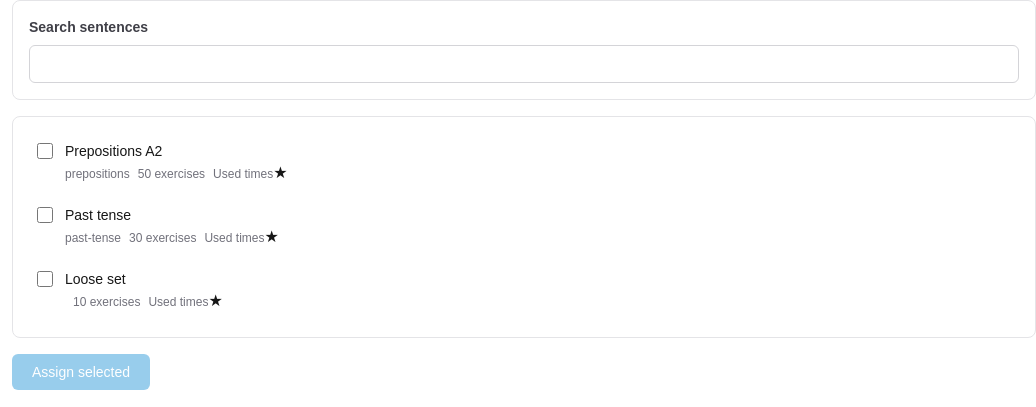
Scenario: LibraryBrowser › multi-selects sets and enables assign
Click the checkbox labelled "Prepositions A2". click: (45, 151)
box: [37,143,53,159]
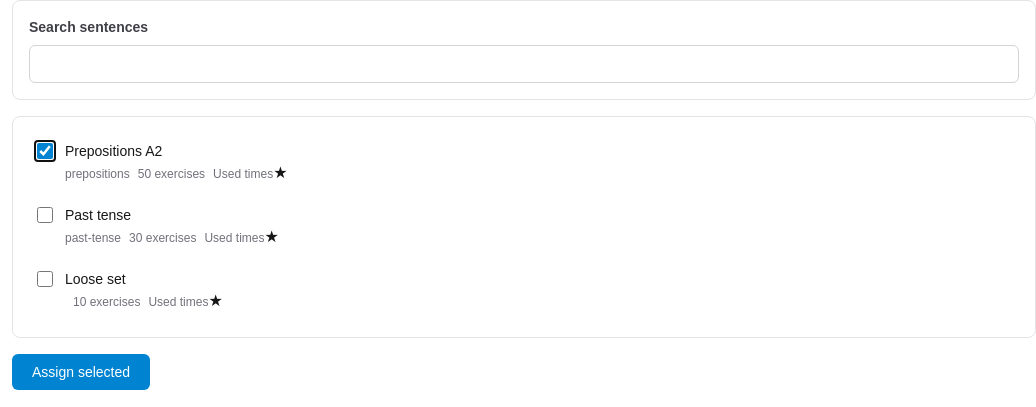
Result: the button "Assign selected" is enabled at [12,354,150,390]
